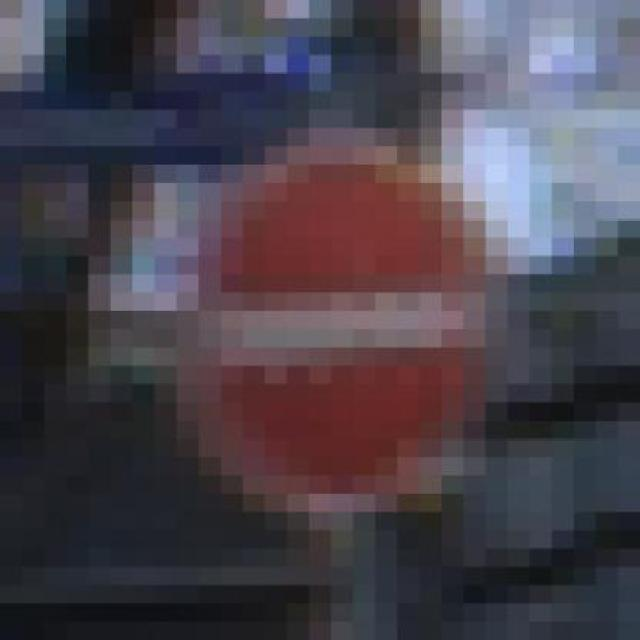B2: (181, 134, 499, 514)
